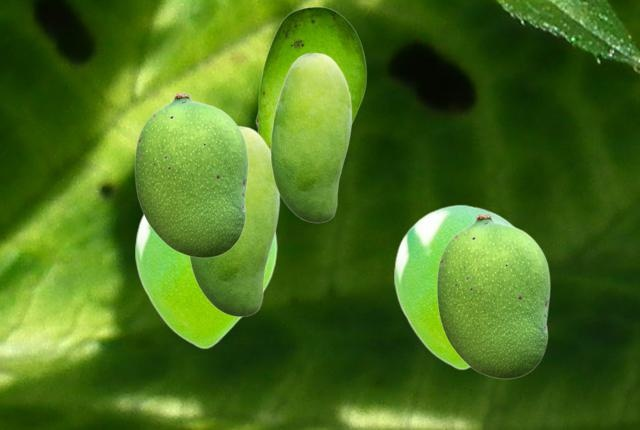green_mango: (394, 204, 514, 369), (135, 213, 276, 348), (436, 213, 549, 378), (134, 92, 247, 257), (189, 125, 279, 316), (255, 6, 366, 146), (270, 52, 351, 222)
